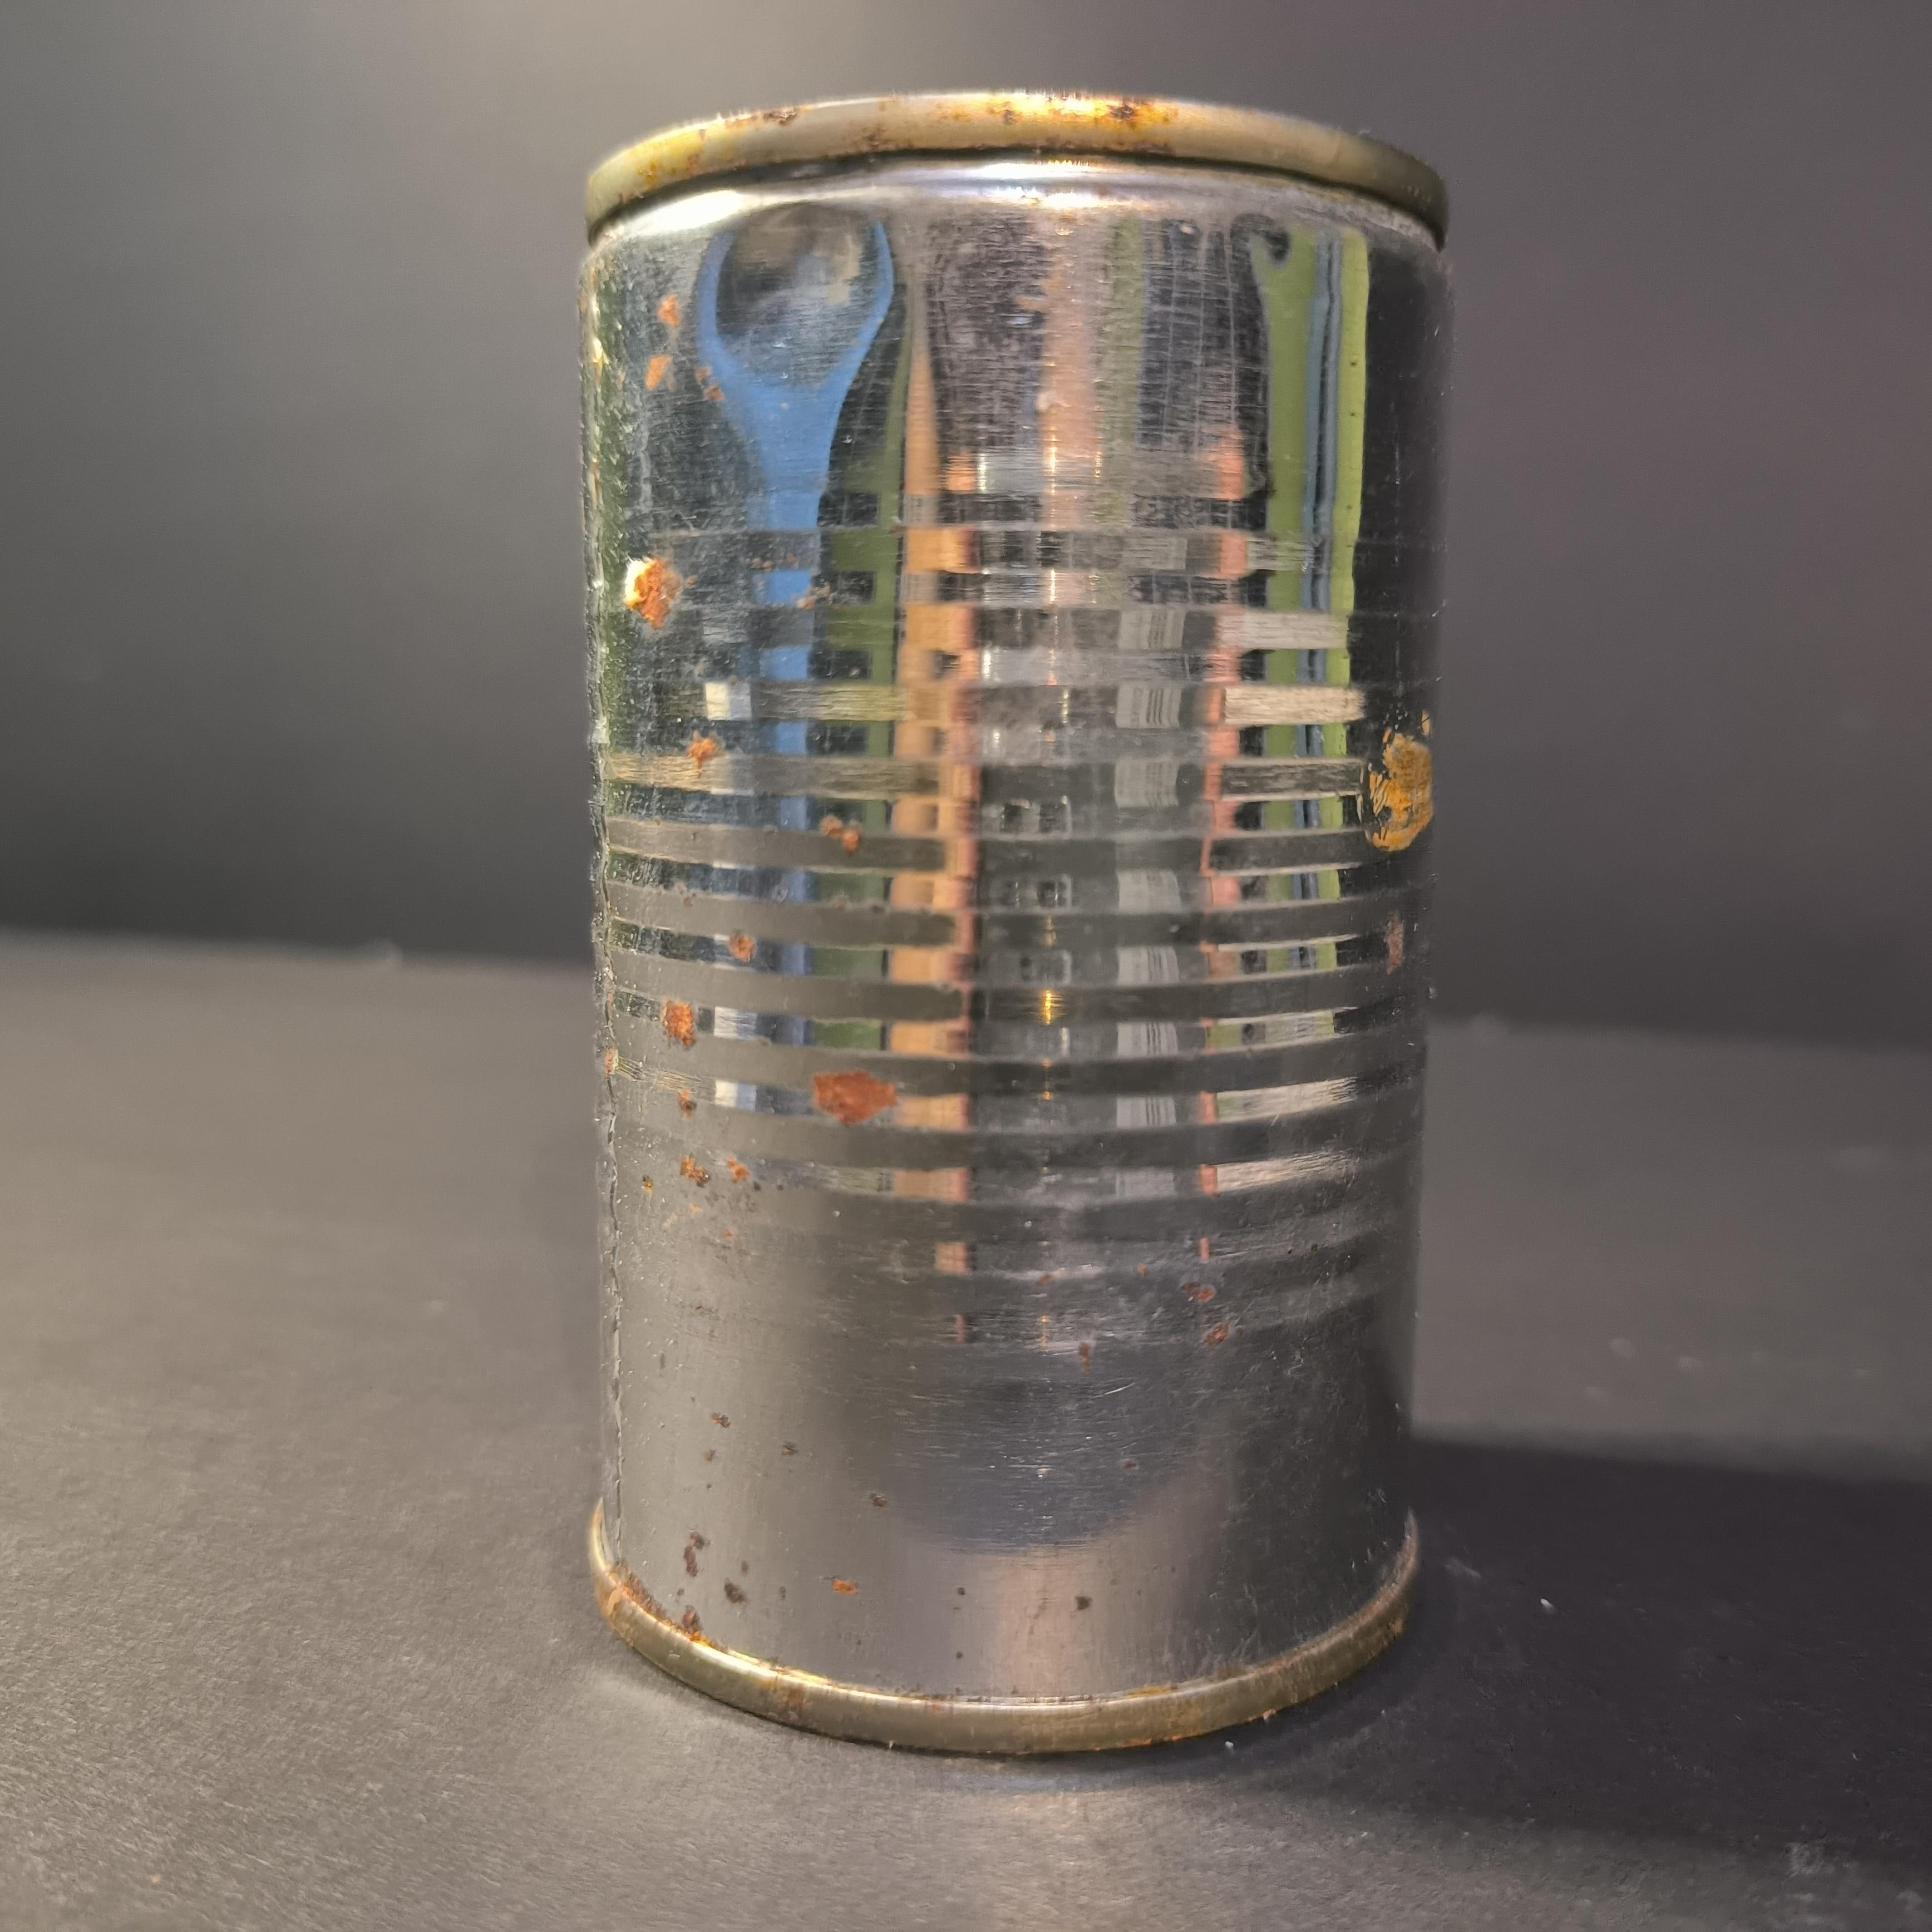Rusted: (554, 67, 1467, 1783)
